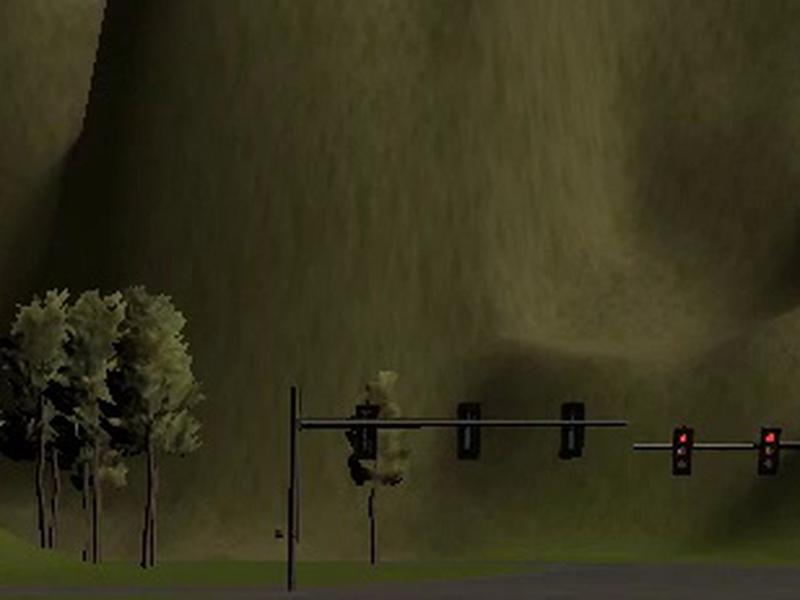Red: (758, 427, 783, 476), (673, 428, 692, 476)
